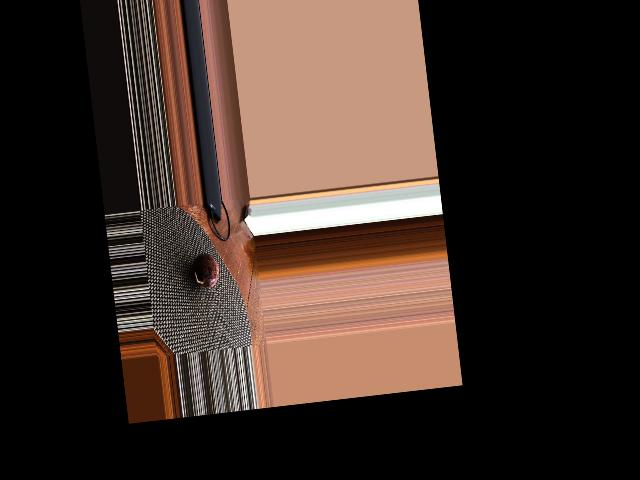beet: (190, 251, 220, 288)
